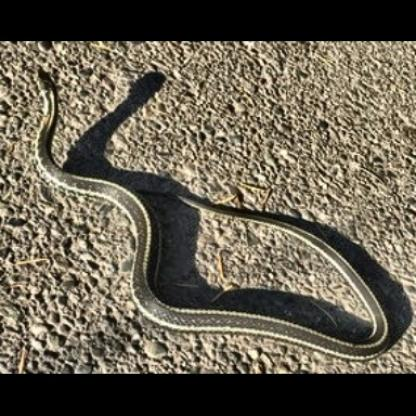Snake: (1, 58, 390, 354)
